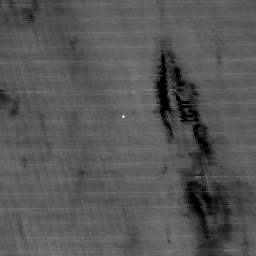Target: (119, 112, 126, 120)
